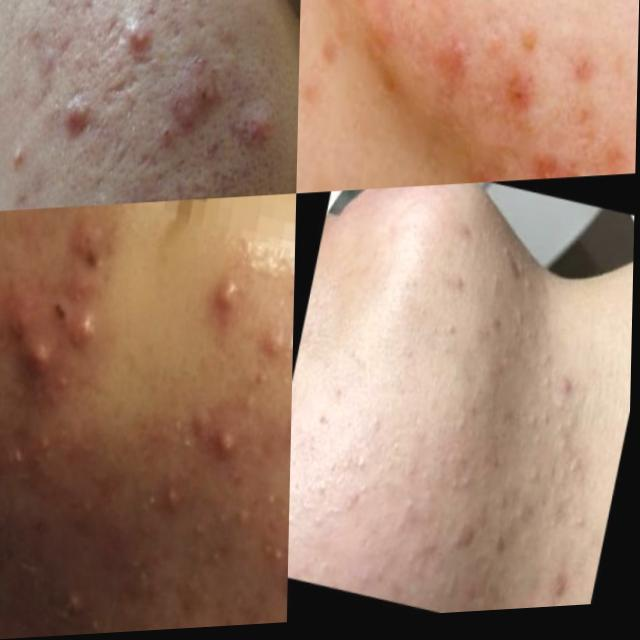8: (410, 27, 488, 132), (55, 78, 106, 153), (523, 140, 589, 187), (231, 108, 282, 160), (2, 293, 42, 349), (551, 377, 591, 428), (188, 69, 231, 113), (166, 96, 205, 142), (540, 572, 576, 614), (451, 534, 486, 572), (493, 536, 517, 576)
9: (205, 267, 260, 337), (24, 330, 75, 391), (259, 314, 295, 380), (121, 15, 160, 67), (75, 303, 112, 357), (206, 424, 245, 474), (1, 134, 37, 180)
blackheads: (491, 51, 552, 142)
